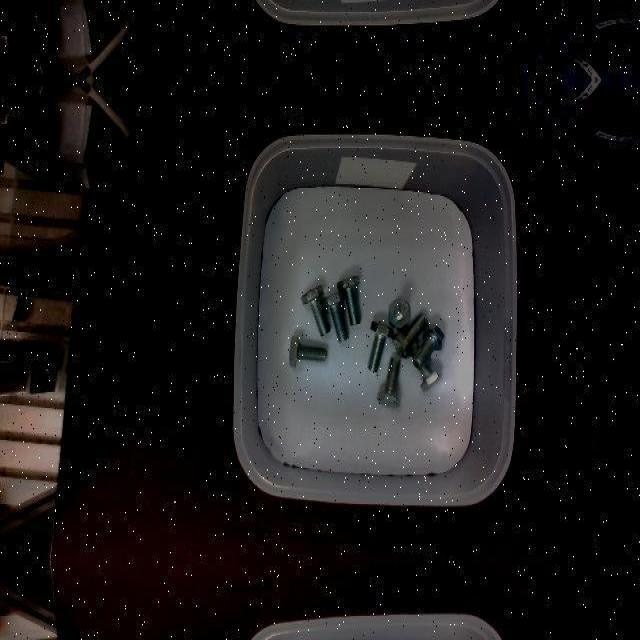screw: (392, 312, 428, 358), (412, 323, 444, 369), (322, 290, 349, 342), (301, 284, 329, 334), (367, 320, 393, 372), (336, 275, 361, 325), (376, 356, 400, 406), (289, 335, 325, 367), (389, 296, 411, 328)
